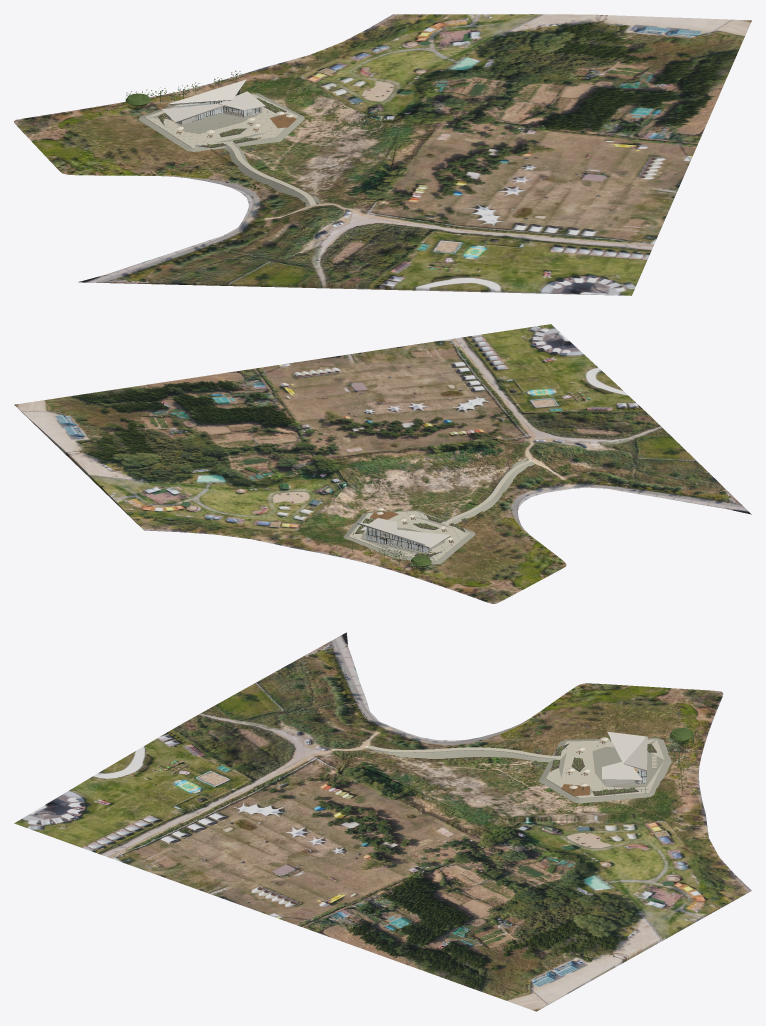
File: option-03.glb
The picture shows the model from 3 angles, top to bottom: view 1: azimuth 30°, elevation 25°; view 2: azimuth 150°, elevation 25°; view 3: azimuth 270°, elevation 25°; orthographic projection. The views are drawn at different scales.
Visible parts, largest first — view 1: option-03__ENV_P01_ground_appearance.002, option-03__Gravel, option-03__Limestone, option-03__Warm limestone, option-03__Clear glazing; view 2: option-03__ENV_P01_ground_appearance.002, option-03__Limestone, option-03__Gravel, option-03__Warm limestone, option-03__Clear glazing; view 3: option-03__ENV_P01_ground_appearance.002, option-03__Gravel, option-03__Limestone, option-03__Warm limestone.
Boxes of the visible parts, box(x1,y1,x2,y2) form: option-03__ENV_P01_ground_appearance.002: box(14, 14, 751, 295); option-03__Gravel: box(138, 93, 320, 206); option-03__Limestone: box(144, 94, 316, 205); option-03__Warm limestone: box(162, 79, 265, 124); option-03__Clear glazing: box(174, 88, 258, 120); option-03__ENV_P01_ground_appearance.002: box(14, 324, 751, 603); option-03__Limestone: box(348, 460, 532, 561); option-03__Gravel: box(344, 458, 534, 564); option-03__Warm limestone: box(357, 518, 450, 552); option-03__Clear glazing: box(366, 527, 429, 552); option-03__ENV_P01_ground_appearance.002: box(14, 632, 751, 1011); option-03__Gravel: box(365, 738, 671, 803); option-03__Limestone: box(367, 739, 664, 798); option-03__Warm limestone: box(602, 731, 647, 786).
Bounding box in the file's own units: 355 × 9.02 × 286.
32 materials, 14 textured.
